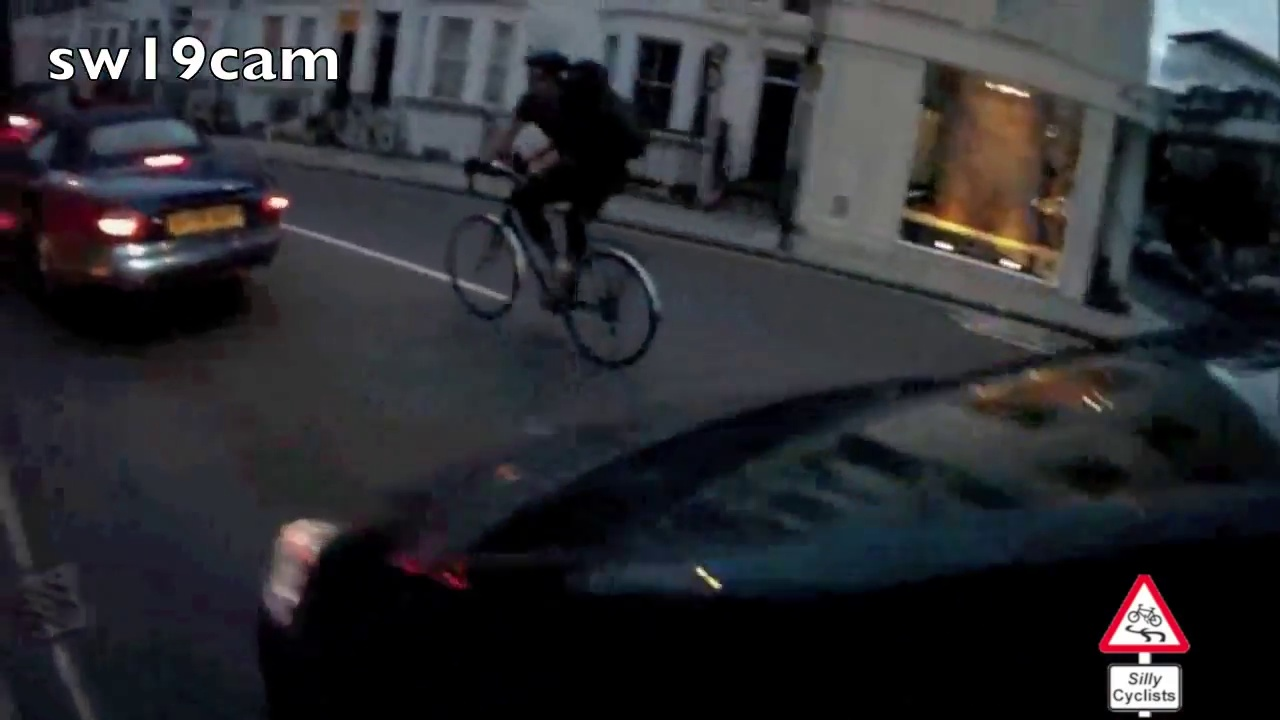cyclist_side: (443, 48, 671, 367)
